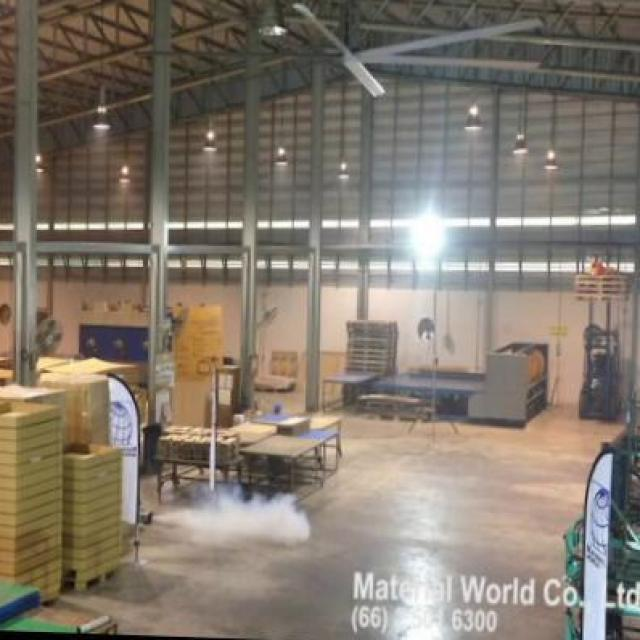fire: (172, 485, 318, 554)
